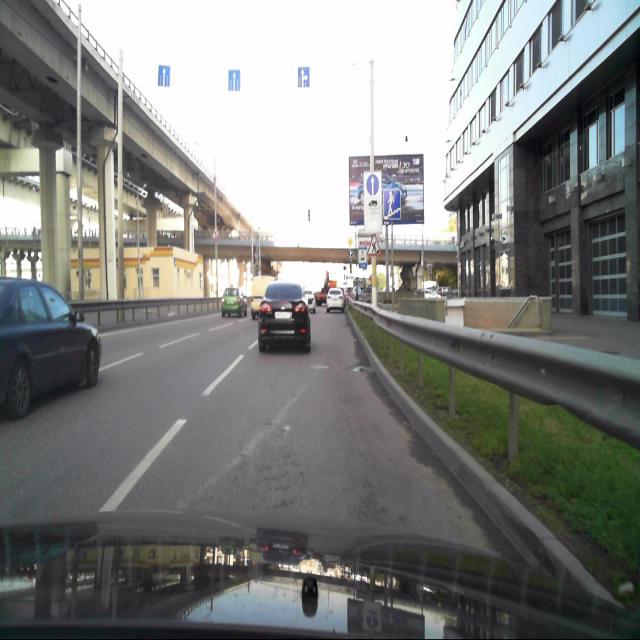object: (363, 172, 382, 234)
road sign: (383, 188, 401, 221), (297, 65, 310, 90), (157, 64, 170, 87), (228, 69, 240, 92), (368, 235, 380, 256), (358, 248, 368, 271)
